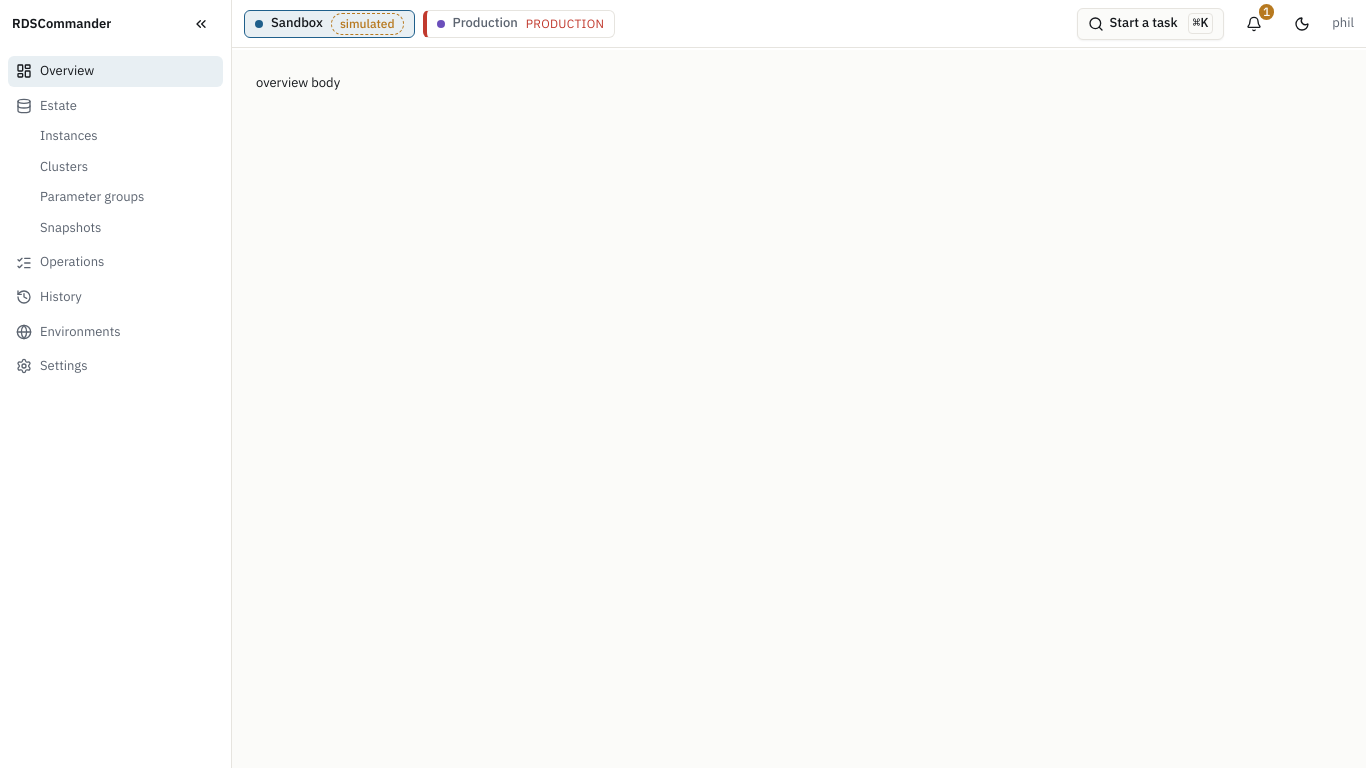
Test: Shell › opens the launcher from the Start a task button and from the keyboard
Expected: the text "overview body" is shown, [256,74,340,91]
Click the button "Start a task ⌘K" at (1150, 24), box [1076,8,1224,40]
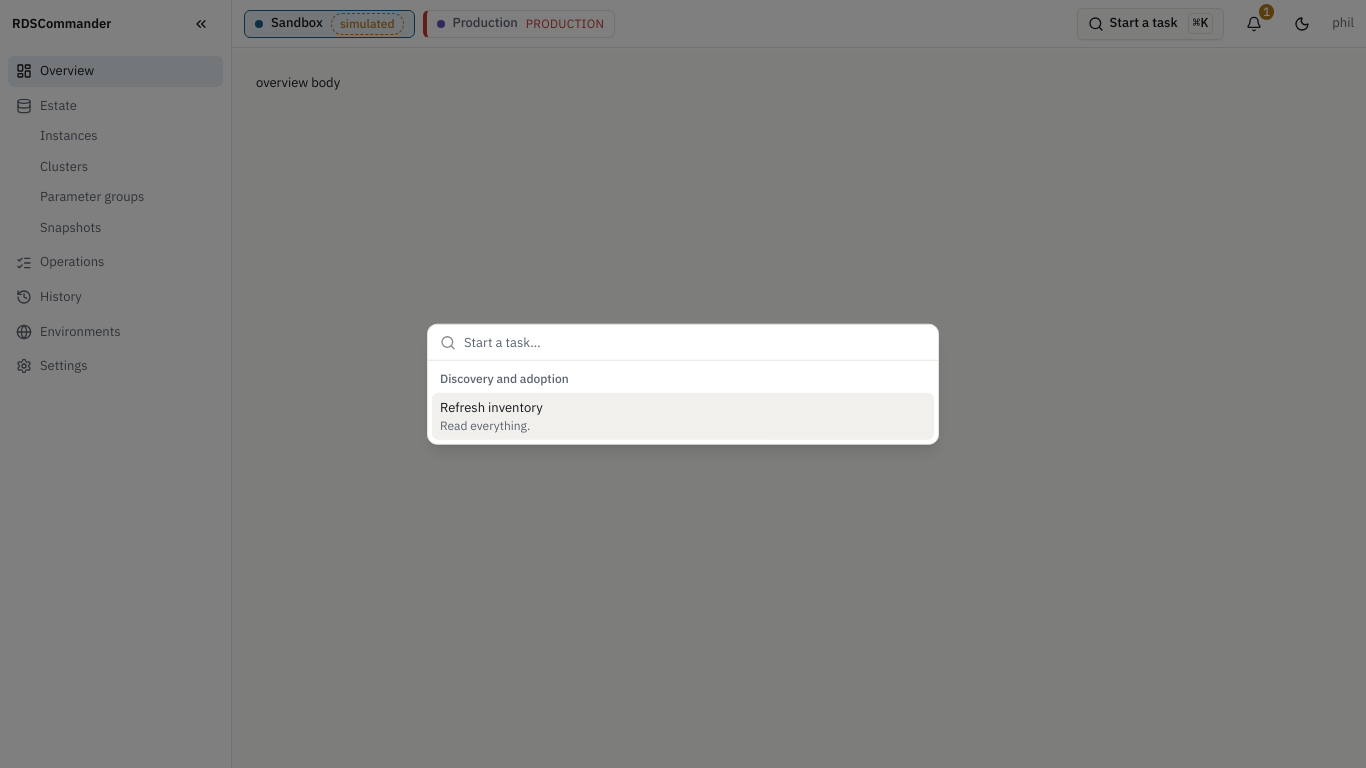
Expected: the dialog named "Start a task" is shown, [427,324,939,444]
Expected: the text "Refresh inventory" is shown, [440,399,543,417]
Press Escape
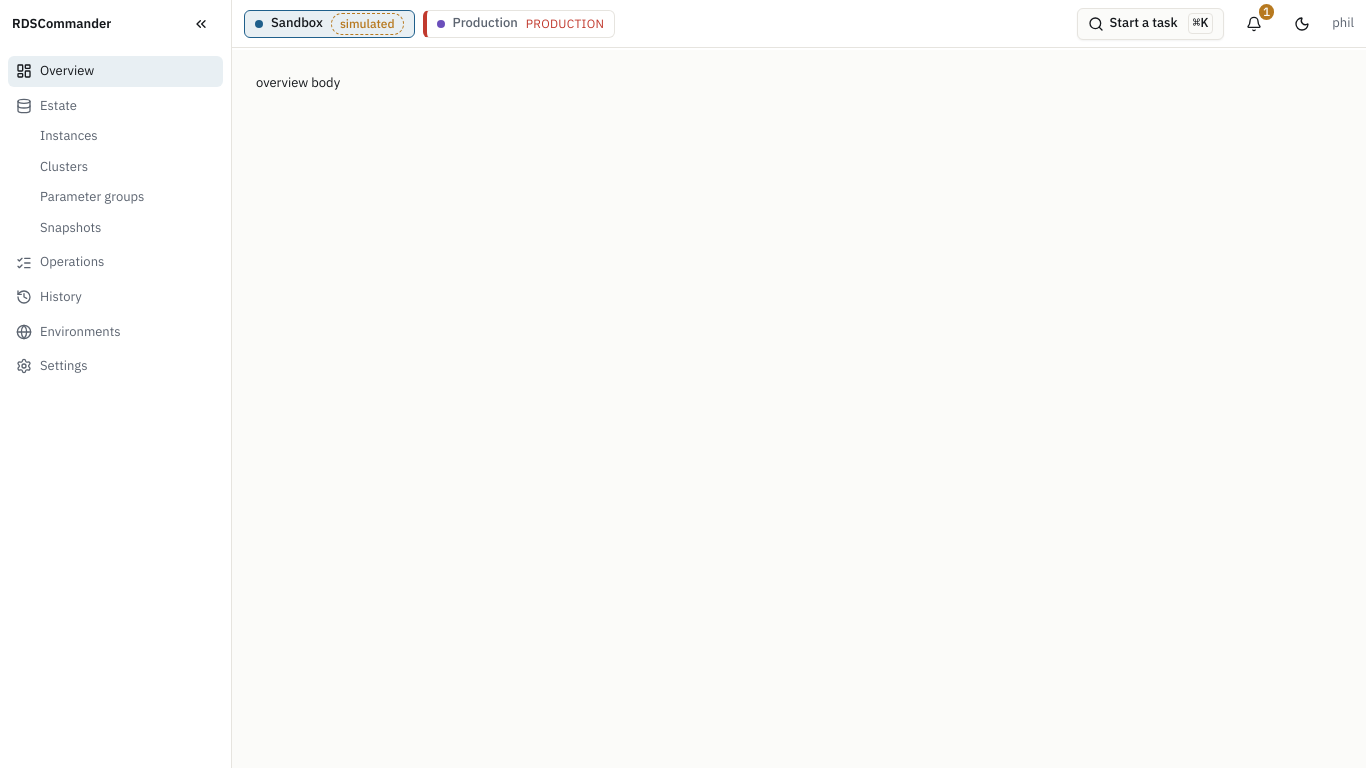
Type keys "{Control>}k{/Control}"
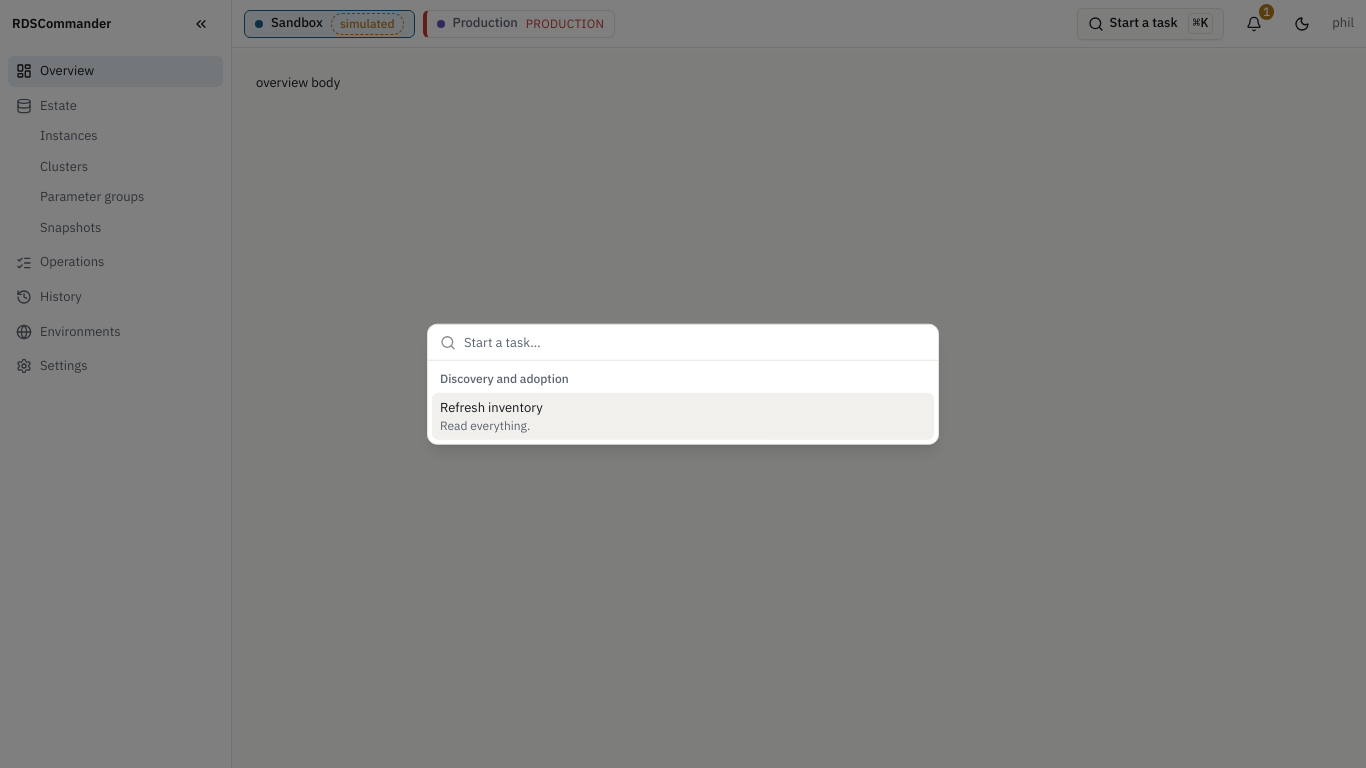
Expected: the dropdown with placeholder "Start a task…" is shown, [464,325,926,362]
